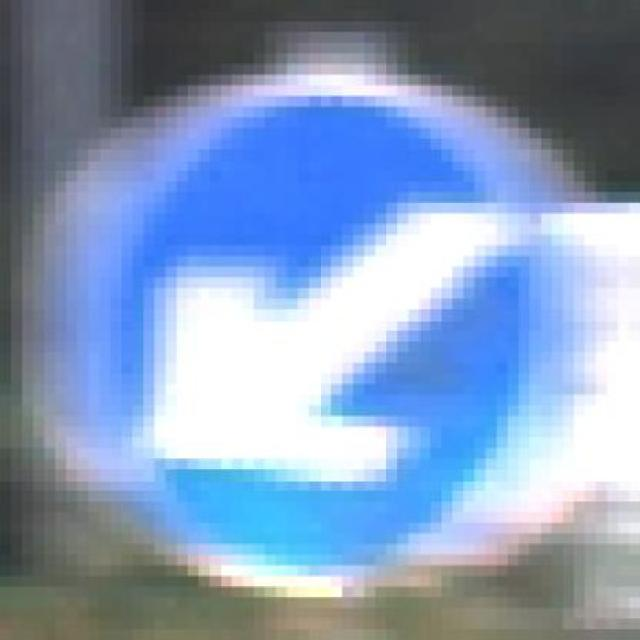Keep-Left: (54, 53, 586, 619)
